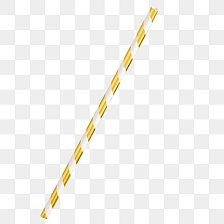drinking_straw: (35, 2, 164, 222)
